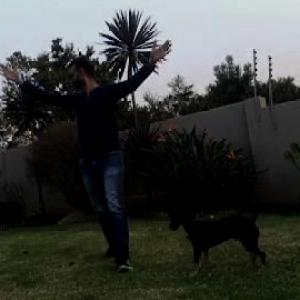takeoff: (7, 40, 172, 248)
